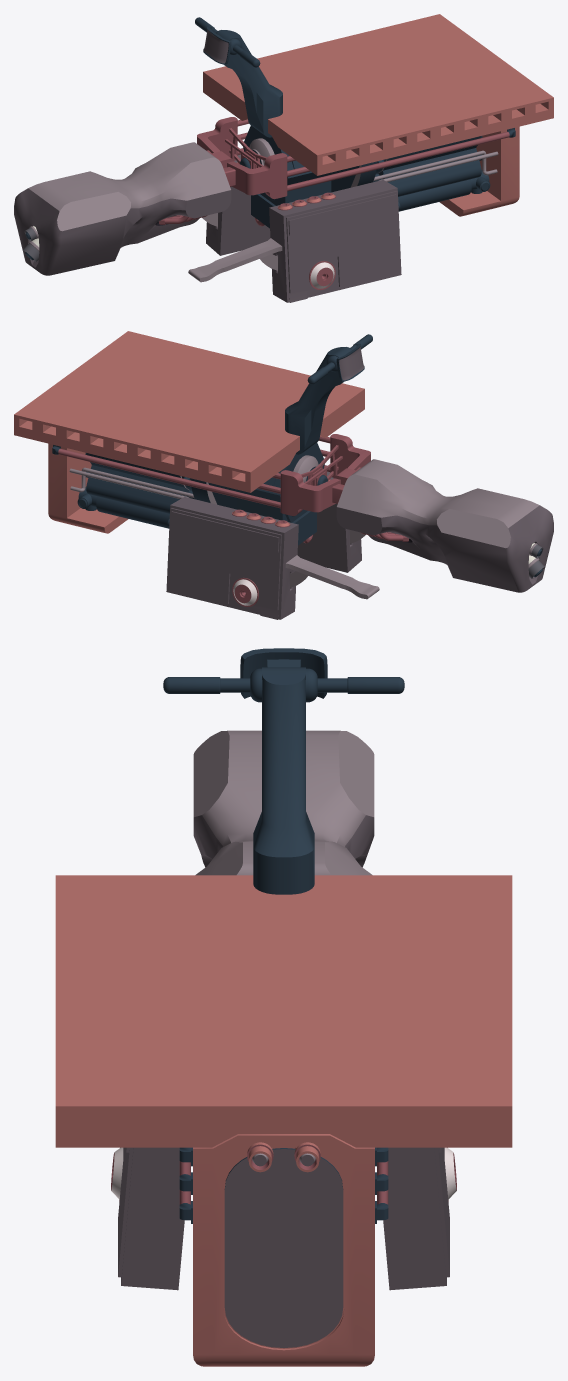
Rendered from hovercarrier.glb.
3 views of the same model, one above another, from view 1: azimuth 30°, elevation 25°; view 2: azimuth 150°, elevation 25°; view 3: azimuth 270°, elevation 25° (orthographic). The views are drawn at different scales.
Visible parts, largest first — view 1: Cube.002, 3d-model.002; view 2: Cube.002, 3d-model.002; view 3: 3d-model.002, Cube.002.
Part boxes in pixels (x1=…): Cube.002: x1=14, y1=117, x2=519, y2=302; 3d-model.002: x1=195, y1=14, x2=553, y2=175; Cube.002: x1=48, y1=434, x2=553, y2=619; 3d-model.002: x1=14, y1=331, x2=372, y2=492; 3d-model.002: x1=55, y1=648, x2=512, y2=1147; Cube.002: x1=111, y1=730, x2=456, y2=1366.
Bounding box in the file's own units: 3.23 × 1.6 × 1.33.
1 material, 1 textured.
